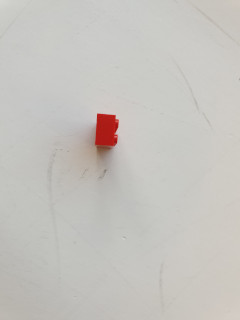2x4 red: (94, 112, 119, 152)
